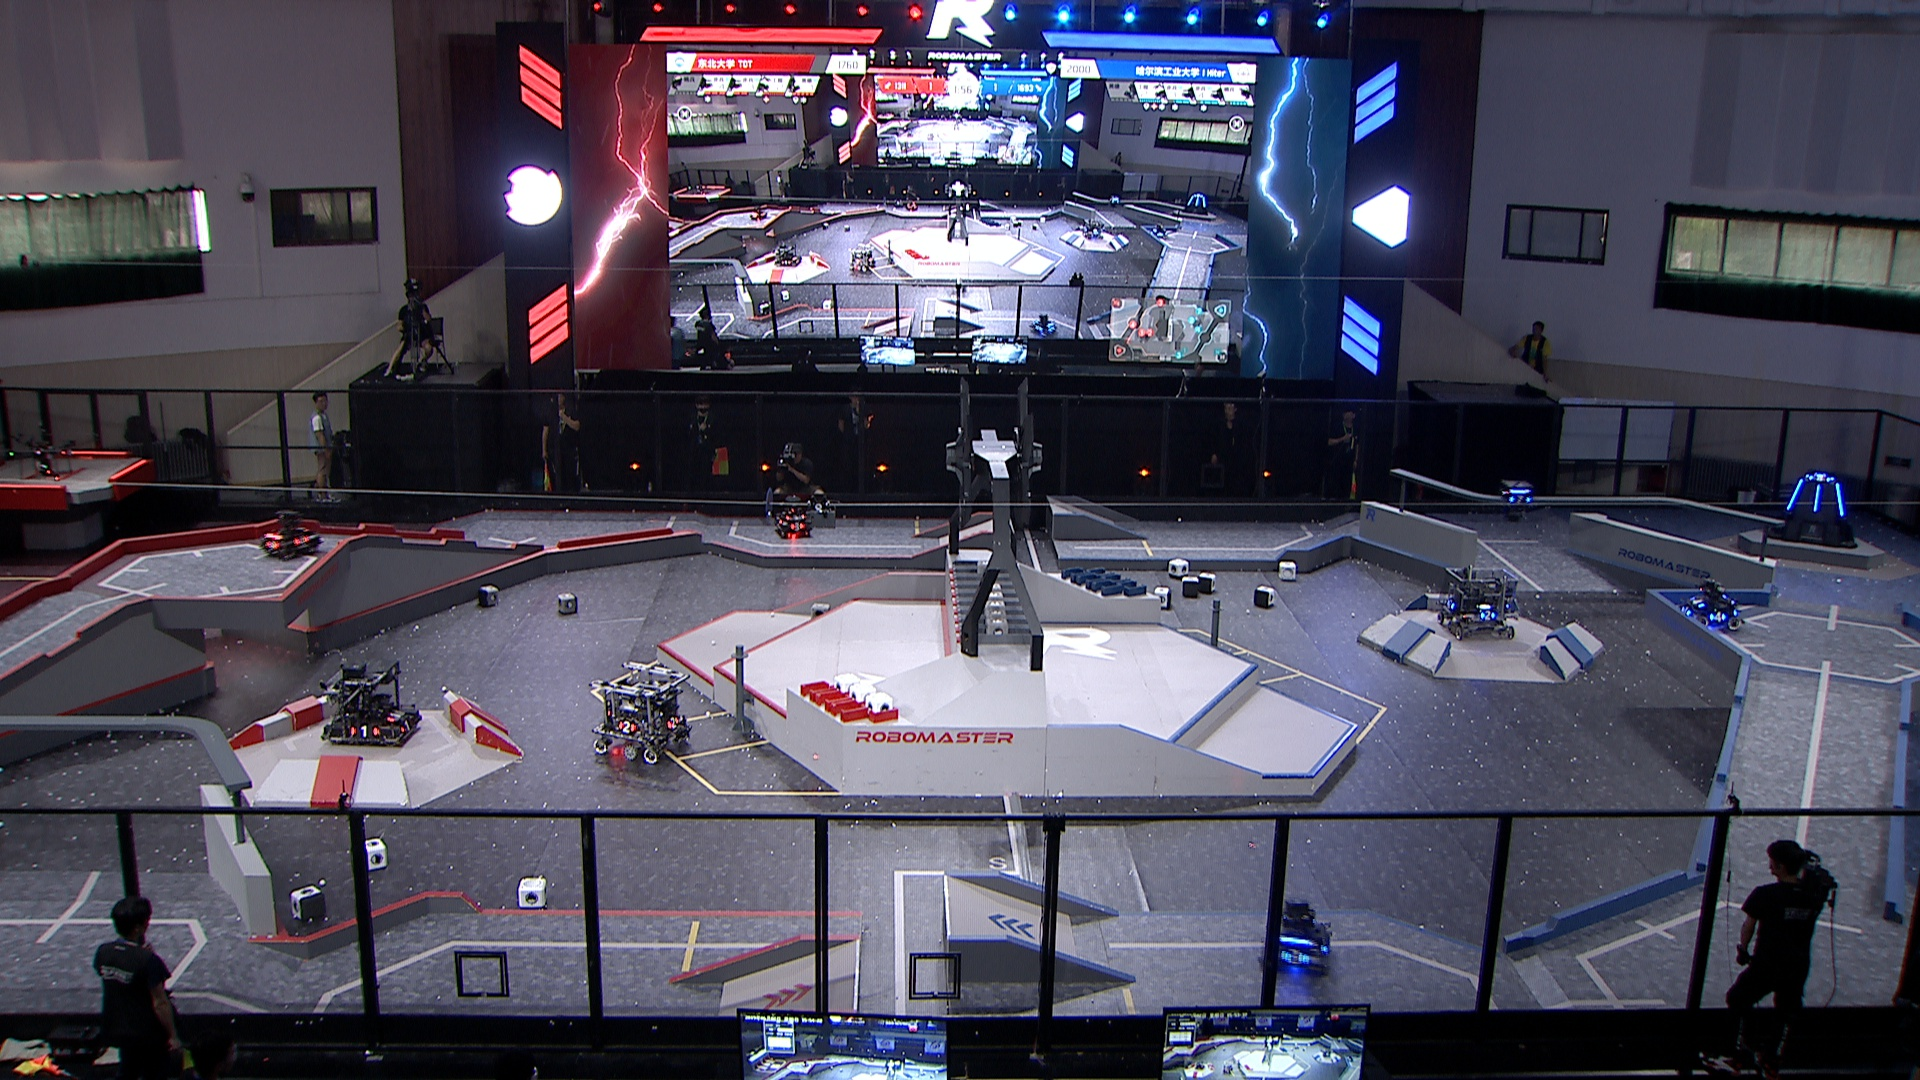armor: (1830, 479, 1849, 520), (1785, 477, 1807, 512), (1276, 948, 1311, 967), (344, 725, 382, 740), (1811, 481, 1825, 514), (613, 717, 638, 736), (396, 713, 415, 735), (385, 705, 405, 725), (1807, 471, 1836, 484), (662, 712, 680, 732), (1506, 493, 1532, 505), (262, 538, 284, 553), (294, 531, 314, 546), (1706, 609, 1727, 622), (1680, 603, 1697, 618), (785, 512, 806, 524), (789, 520, 807, 533), (1444, 597, 1458, 613), (1689, 595, 1705, 609), (1481, 609, 1495, 622)
base: (1764, 465, 1863, 553)
car: (589, 655, 692, 765), (316, 659, 423, 752), (1429, 564, 1519, 644), (1265, 897, 1331, 975), (1675, 576, 1747, 633), (258, 508, 324, 560), (771, 491, 816, 541)
ignore: (847, 244, 878, 277), (771, 243, 806, 272), (1027, 310, 1058, 338), (1182, 193, 1211, 218), (1077, 218, 1106, 243), (746, 200, 769, 224), (1150, 218, 1168, 239), (905, 196, 920, 214), (1109, 195, 1122, 210)
watcher: (1495, 475, 1538, 522)
